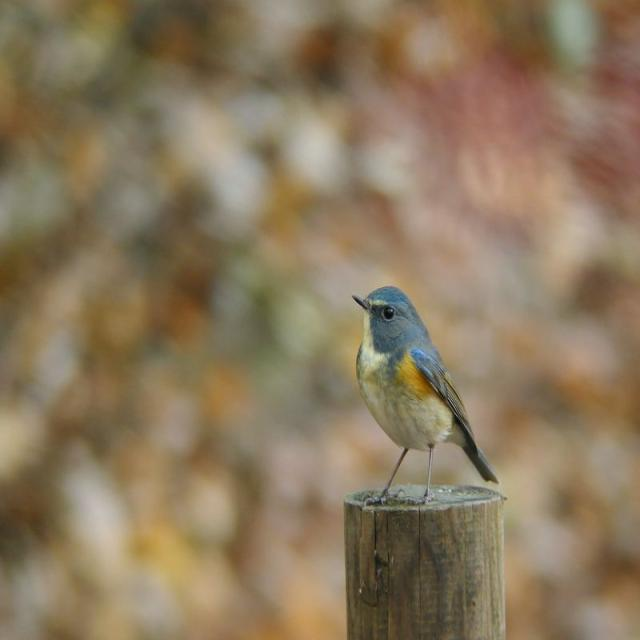bird: (342, 288, 508, 499)
